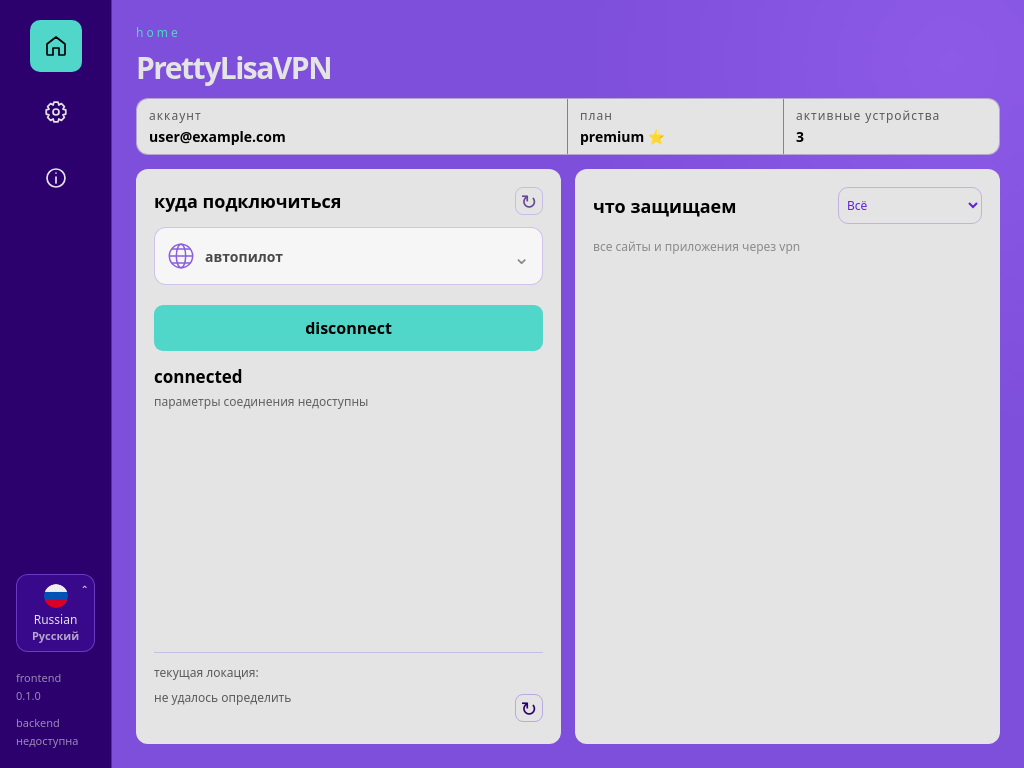
Test case: authenticated Home › keeps previous traffic rules when cleanup fails
Select "Выбранное" in the dropdown named "режим трафика": (910, 206) x1=838 y1=187 x2=982 y2=224
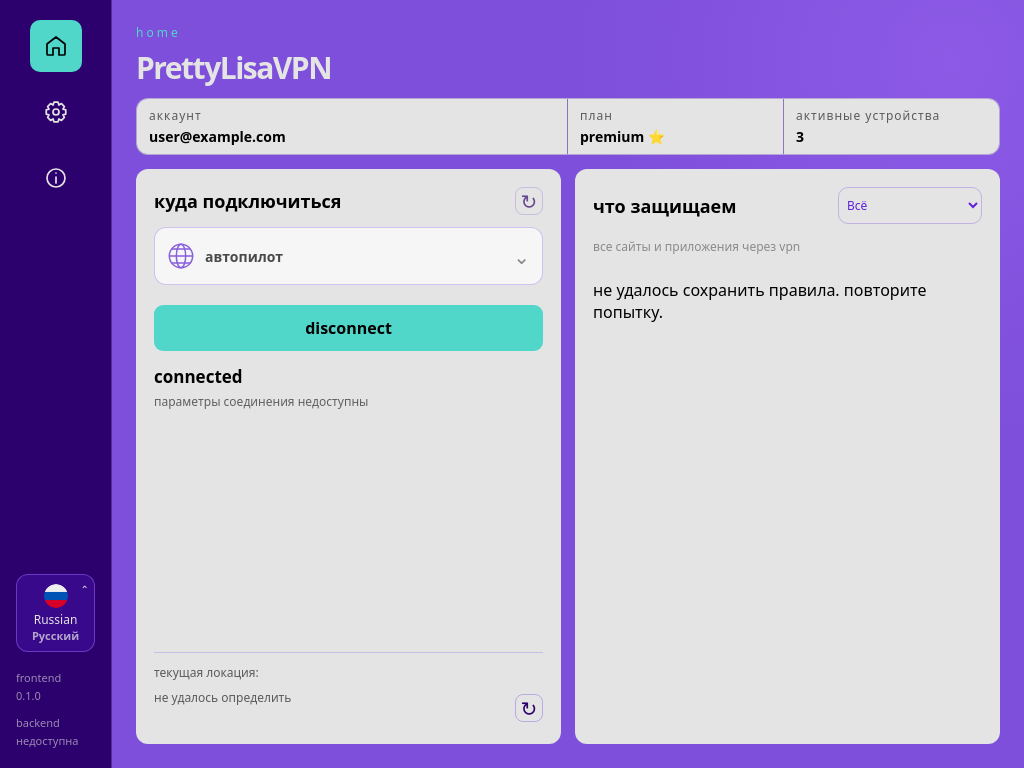
Expected: the text "Не удалось сохранить правила. Повторите попытку." is shown, x1=593 y1=279 x2=982 y2=323
